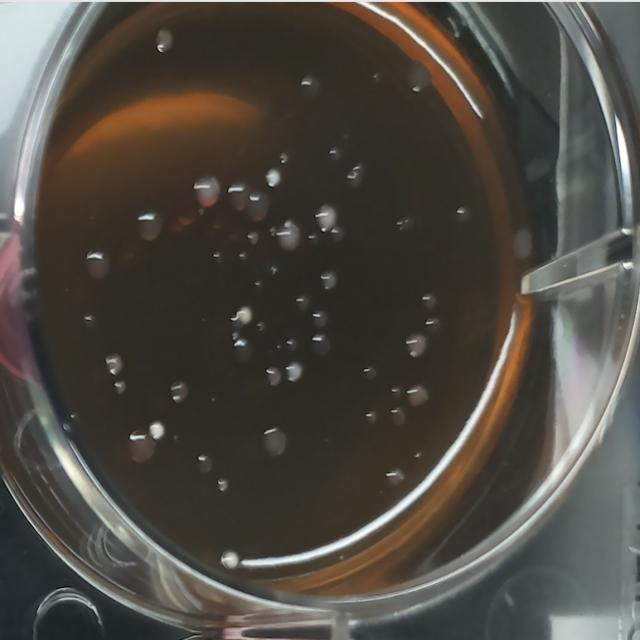Alteromonas: (360, 364, 379, 387)
Bacillus: (314, 202, 339, 234)
Pseudoalteromonas: (401, 327, 430, 362)
Staphylococcus: (219, 546, 244, 574), (264, 164, 283, 190), (147, 419, 167, 443), (234, 304, 254, 328)
